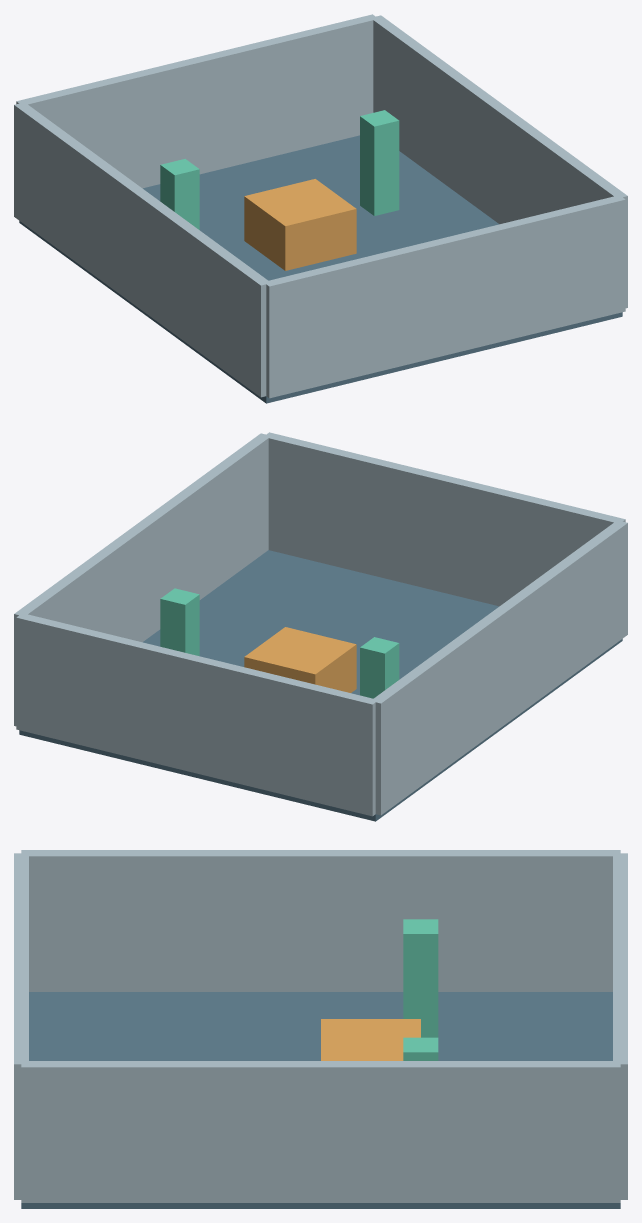
3 views of the same model, one above another, from view 1: azimuth 30°, elevation 25°; view 2: azimuth 150°, elevation 25°; view 3: azimuth 270°, elevation 25° (orthographic). The views are drawn at different scales.
Visible parts, largest first — view 1: South wall, North wall, West wall, East wall, Floor, Pedestal, Column B, Column A; view 2: North wall, South wall, West wall, Floor, East wall, Pedestal, Column B, Column A; view 3: East wall, West wall, Floor, South wall, North wall, Column A, Pedestal, Column B.
Part boxes in pixels (x1=…): South wall: x1=263, y1=195, x2=625, y2=398; North wall: x1=16, y1=14, x2=378, y2=188; West wall: x1=14, y1=102, x2=267, y2=397; East wall: x1=371, y1=15, x2=627, y2=308; Floor: x1=19, y1=135, x2=622, y2=403; Pedestal: x1=244, y1=179, x2=356, y2=270; Column B: x1=360, y1=110, x2=399, y2=215; Column A: x1=160, y1=159, x2=199, y2=229; North wall: x1=16, y1=613, x2=378, y2=816; South wall: x1=263, y1=432, x2=625, y2=606; West wall: x1=374, y1=521, x2=627, y2=815; Floor: x1=19, y1=550, x2=622, y2=821; East wall: x1=14, y1=433, x2=270, y2=726; Pedestal: x1=244, y1=627, x2=356, y2=692; Column B: x1=160, y1=588, x2=199, y2=656; Column A: x1=360, y1=637, x2=399, y2=698; East wall: x1=21, y1=1061, x2=620, y2=1202; West wall: x1=21, y1=850, x2=620, y2=991; Floor: x1=21, y1=992, x2=620, y2=1208; South wall: x1=14, y1=853, x2=28, y2=1199; North wall: x1=613, y1=853, x2=627, y2=1199; Column A: x1=403, y1=919, x2=438, y2=1037; Pedestal: x1=321, y1=1019, x2=420, y2=1060; Column B: x1=403, y1=1037, x2=438, y2=1060.
Size of the model in its own units: 10.3 by 3.2 by 12.3.
